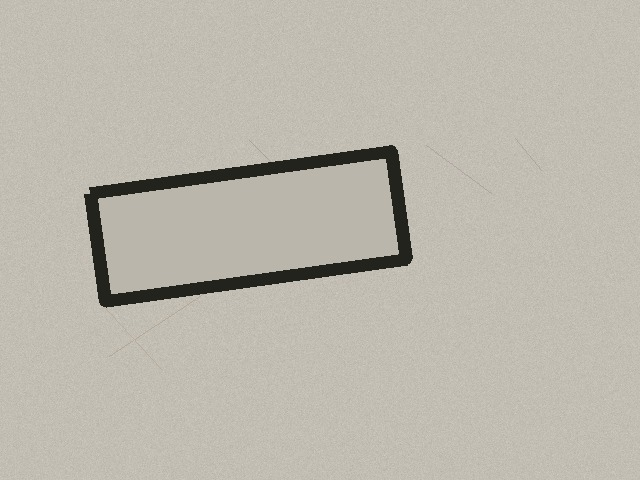parking_area: (90, 151, 406, 301)
